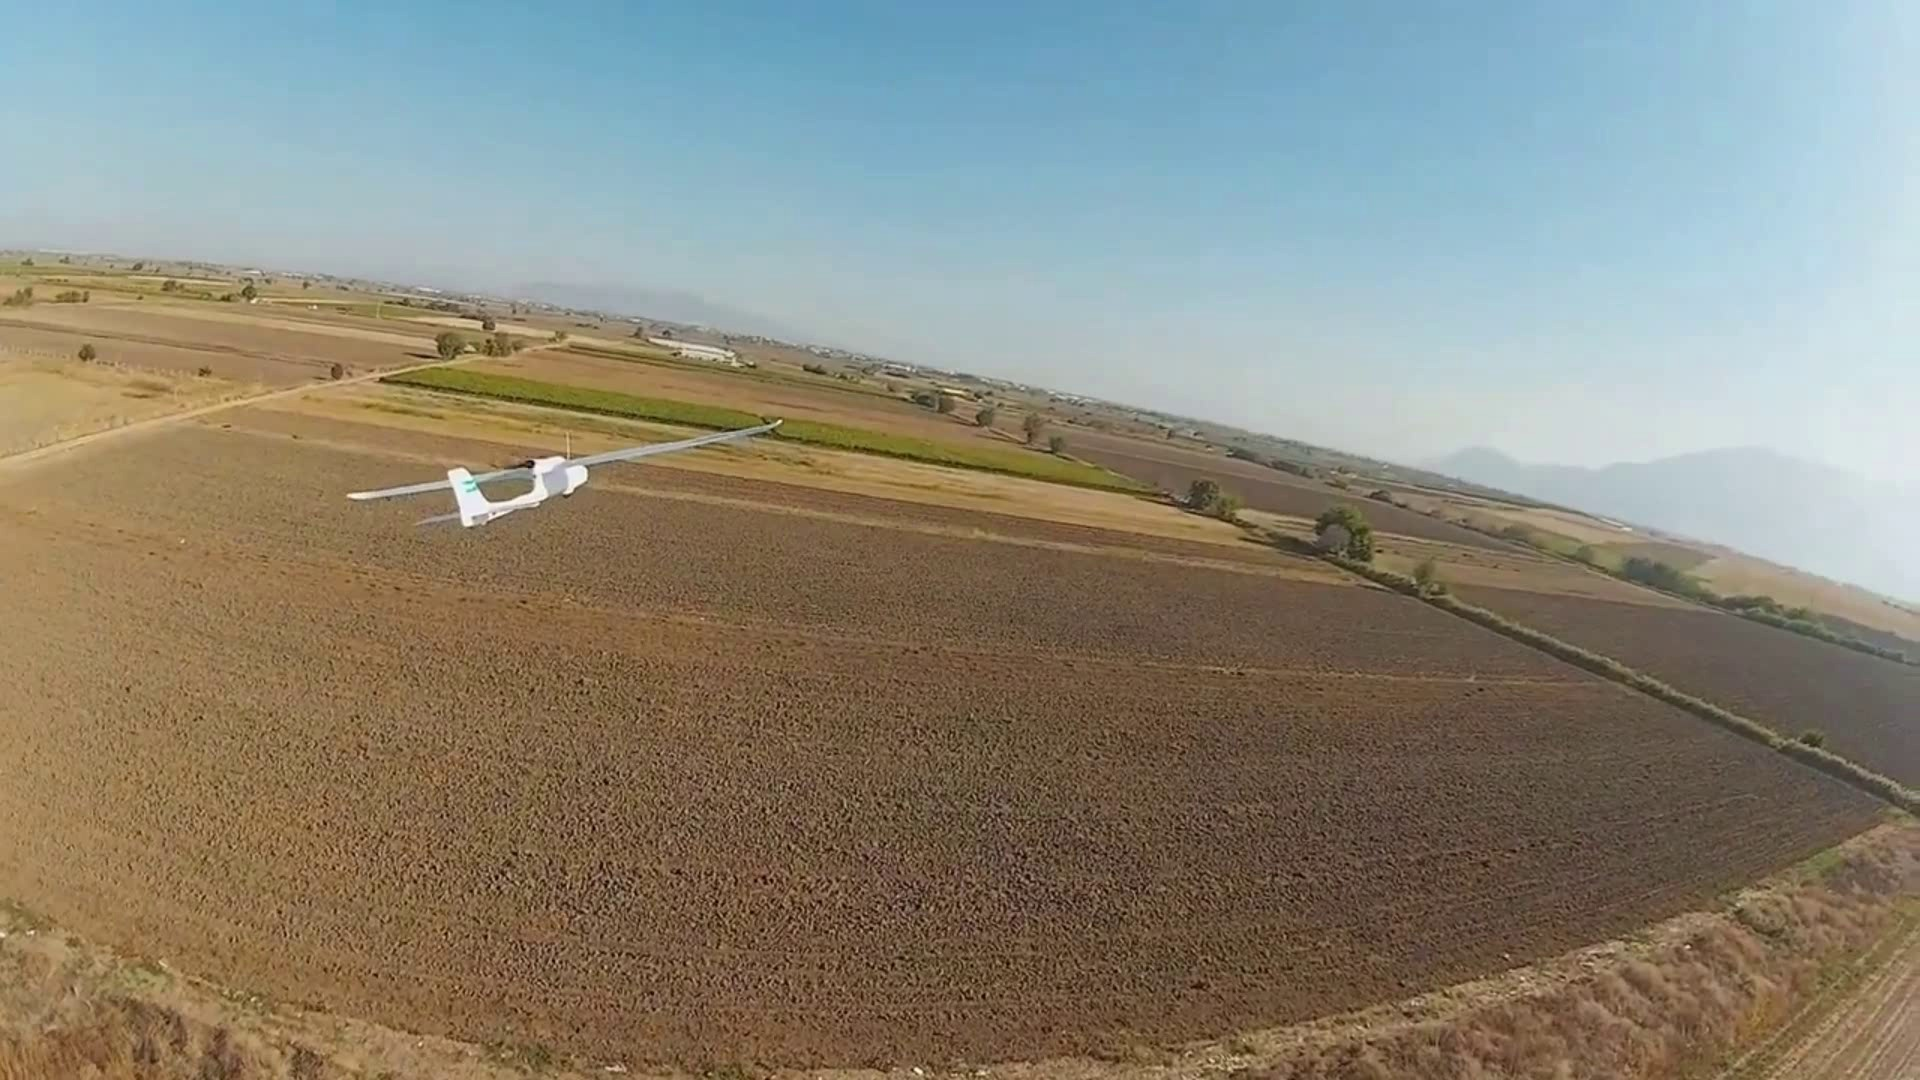airplane: (347, 411, 785, 527), (345, 455, 591, 530)
